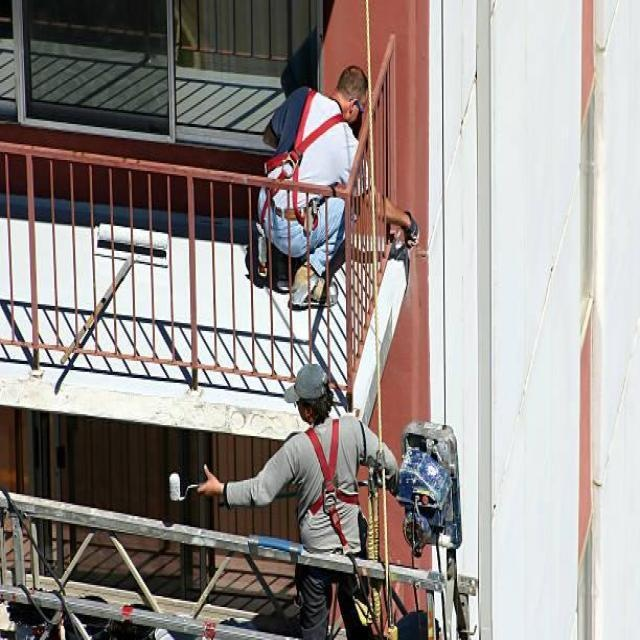Arnes_seguridad: (259, 85, 347, 228), (293, 418, 358, 547)
